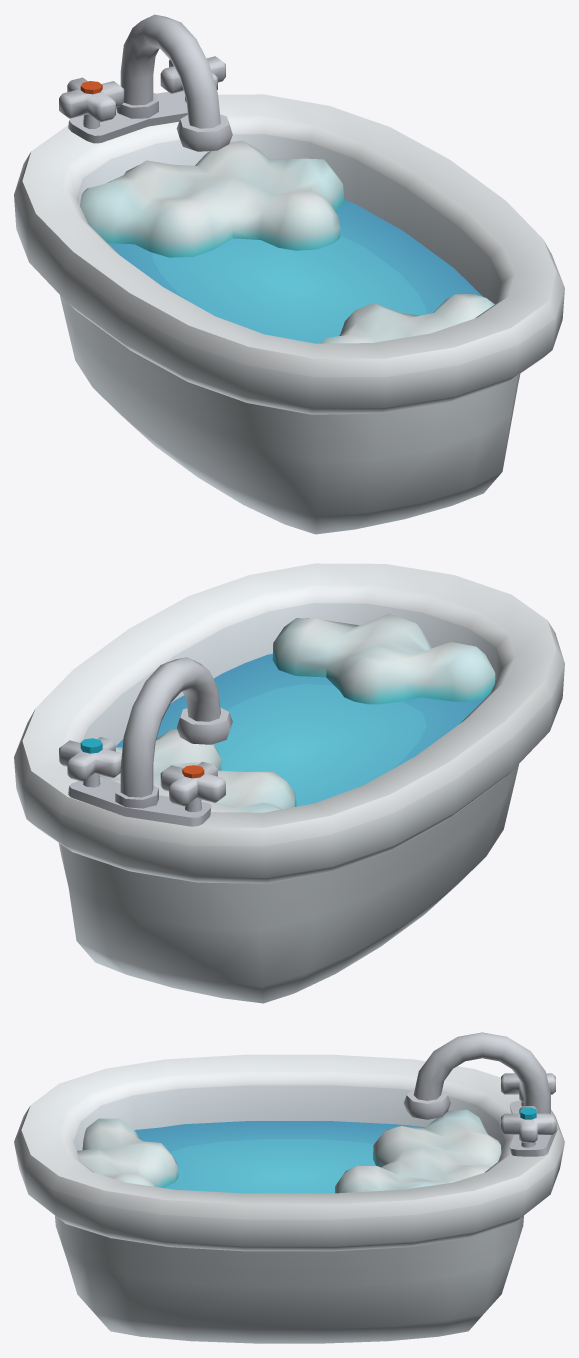
File: bath.fbx
The picture shows the model from 3 angles, top to bottom: view 1: azimuth 30°, elevation 25°; view 2: azimuth 150°, elevation 25°; view 3: azimuth 270°, elevation 25°; orthographic projection. The views are drawn at different scales.
Visible parts, largest first — view 1: bath, bath_water; view 2: bath, bath_water; view 3: bath, bath_water.
Boxes of the visible parts, bbox=[...] form: bath: bbox=[14, 14, 564, 534]; bath_water: bbox=[80, 140, 494, 343]; bath: bbox=[14, 563, 564, 1003]; bath_water: bbox=[99, 613, 495, 812]; bath: bbox=[14, 1032, 564, 1343]; bath_water: bbox=[77, 1109, 501, 1193].
Size of the model in its own units: 2 by 1.61 by 3.
